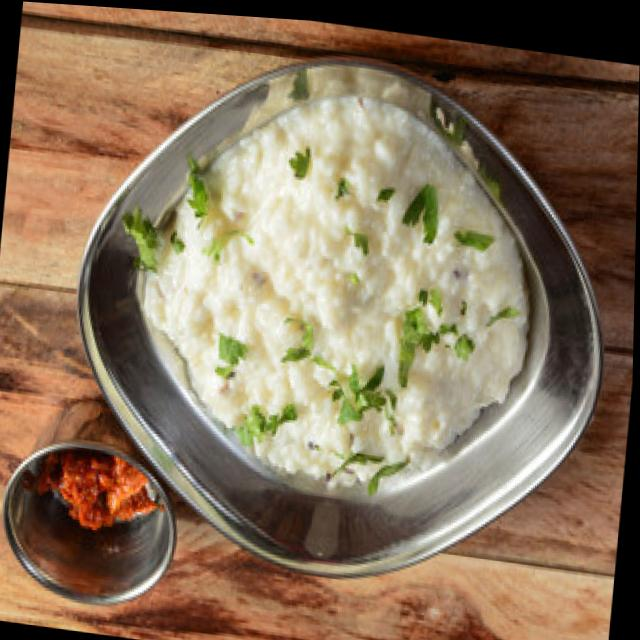CURD RICE: (152, 98, 524, 477)
PICKLE: (36, 456, 147, 527)
